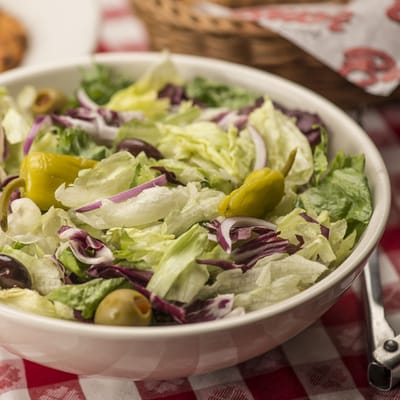sushi: (7, 44, 391, 380)
